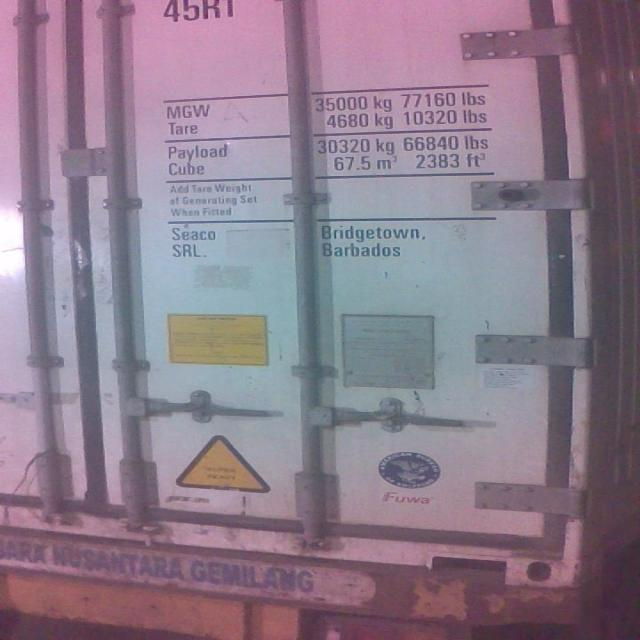seal: (132, 518, 166, 549)
